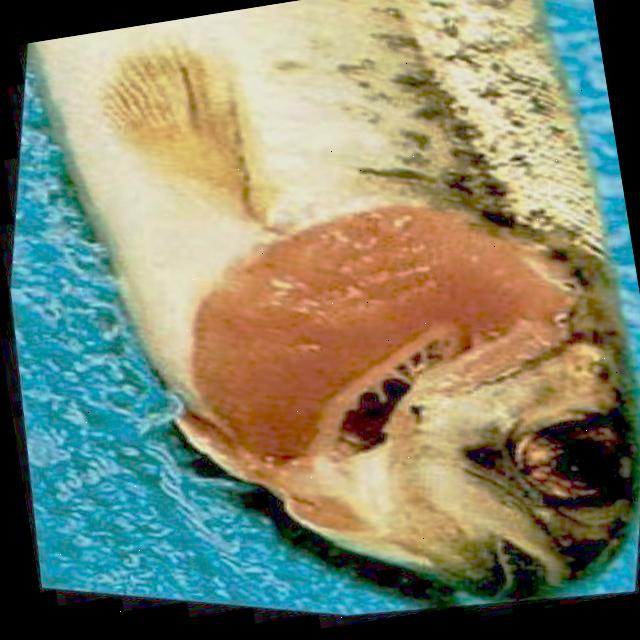Flavobacterium -Bacterial Gill Disease-: (33, 0, 640, 603), (34, 0, 636, 595)
